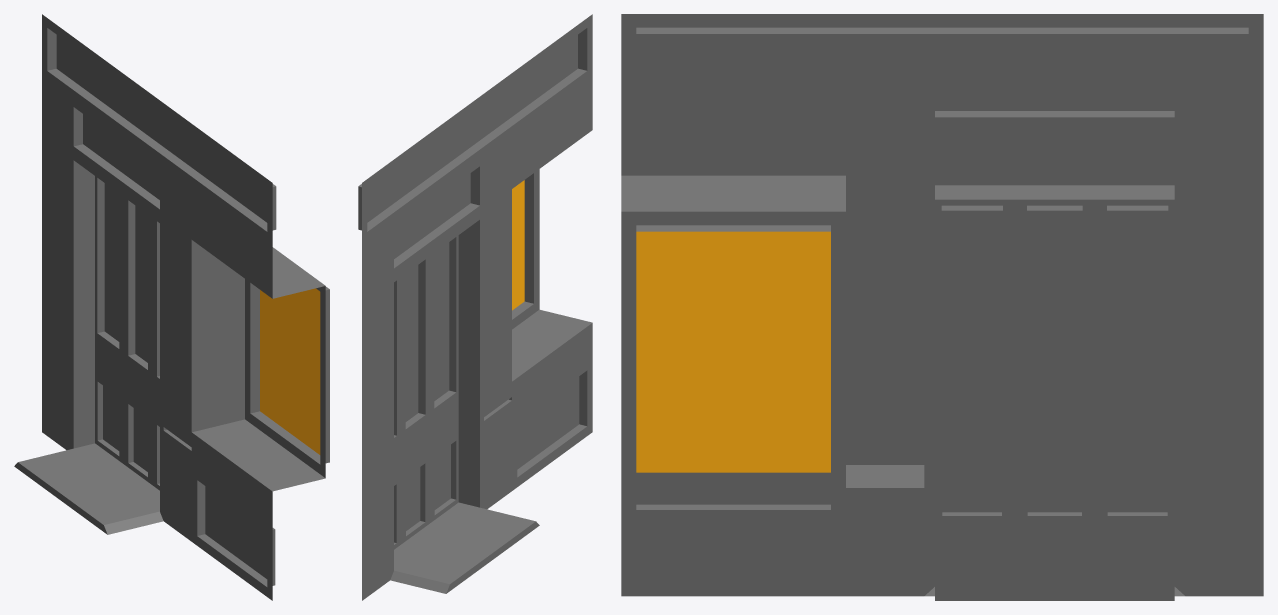
Rendered from O7_Facade_Boutique_Porte_Fenetre_Droite.fbx.
3 views of the same model, side by side, from view 1: azimuth 30°, elevation 25°; view 2: azimuth 150°, elevation 25°; view 3: azimuth 270°, elevation 25° (orthographic). The views are drawn at different scales.
Visible parts, largest first — view 1: O_Facade_Boutique_Porte_Fenetre_Droite; view 2: O_Facade_Boutique_Porte_Fenetre_Droite; view 3: O_Facade_Boutique_Porte_Fenetre_Droite.
Part boxes in pixels (x1,y1,x2,y2): O_Facade_Boutique_Porte_Fenetre_Droite: (14,14,329,600); O_Facade_Boutique_Porte_Fenetre_Droite: (358,14,592,600); O_Facade_Boutique_Porte_Fenetre_Droite: (621,14,1263,600).
Size of the model in its own units: 0.8917 by 3 by 3.
